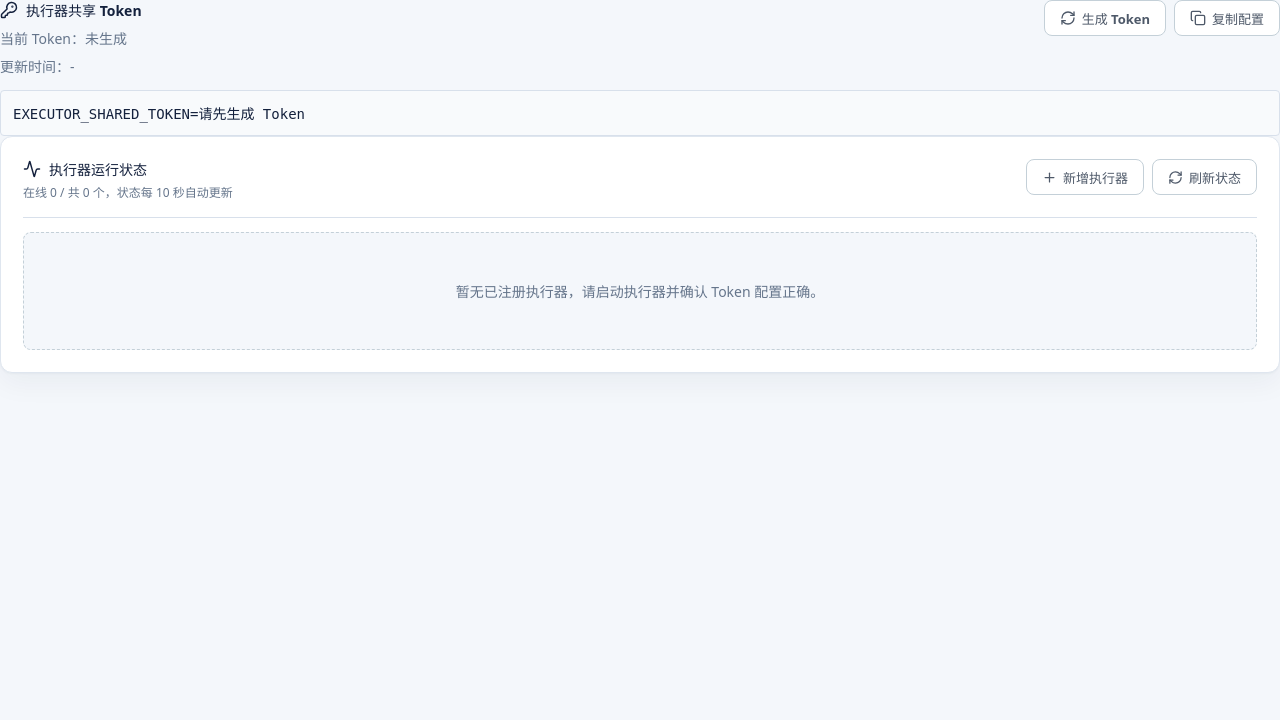
Test: 执行器配置页 › 新增执行器并生成专属 Token
Expected: the text "暂无已注册执行器，请启动执行器并确认 Token 配置正确。" is shown, [23,232,1257,350]
Click the button "新增执行器".
click(1085, 177)  # box [1026,159,1144,195]
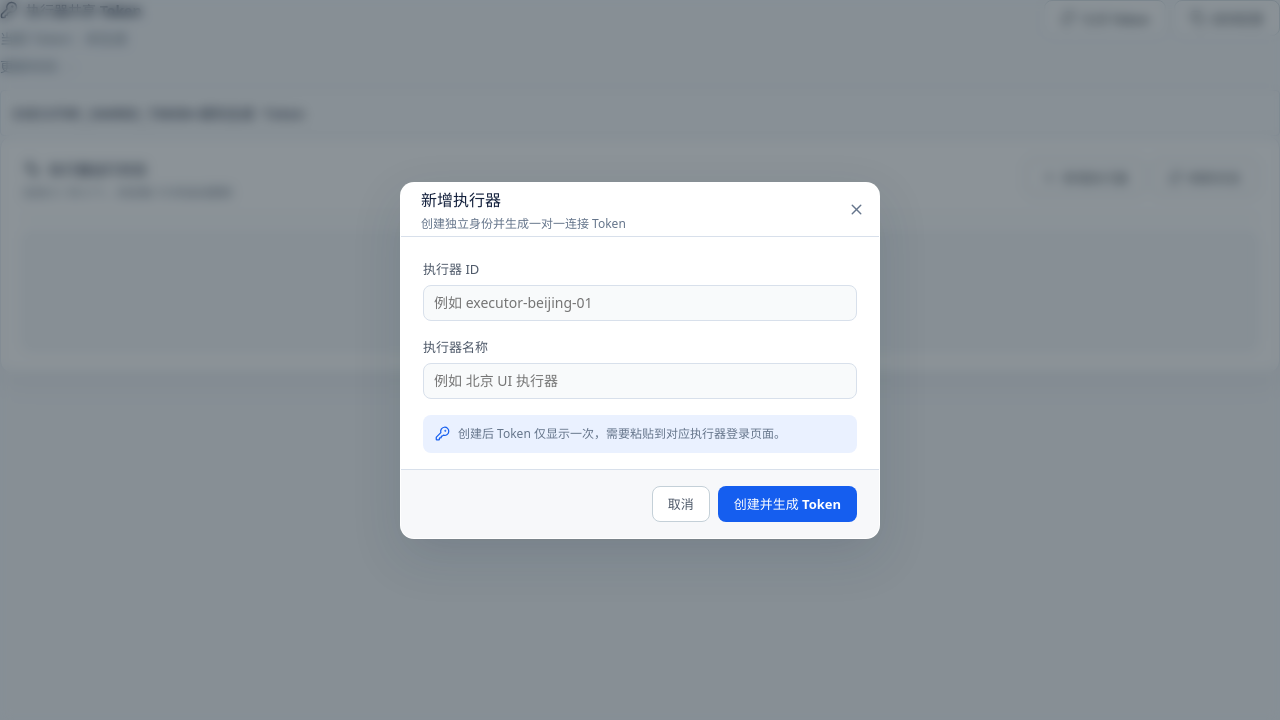
Type "executor-beijing-01" into the field with placeholder "例如 executor-beijing-01".
click(640, 302); type("executor-beijing-01")  # box [423,284,857,320]
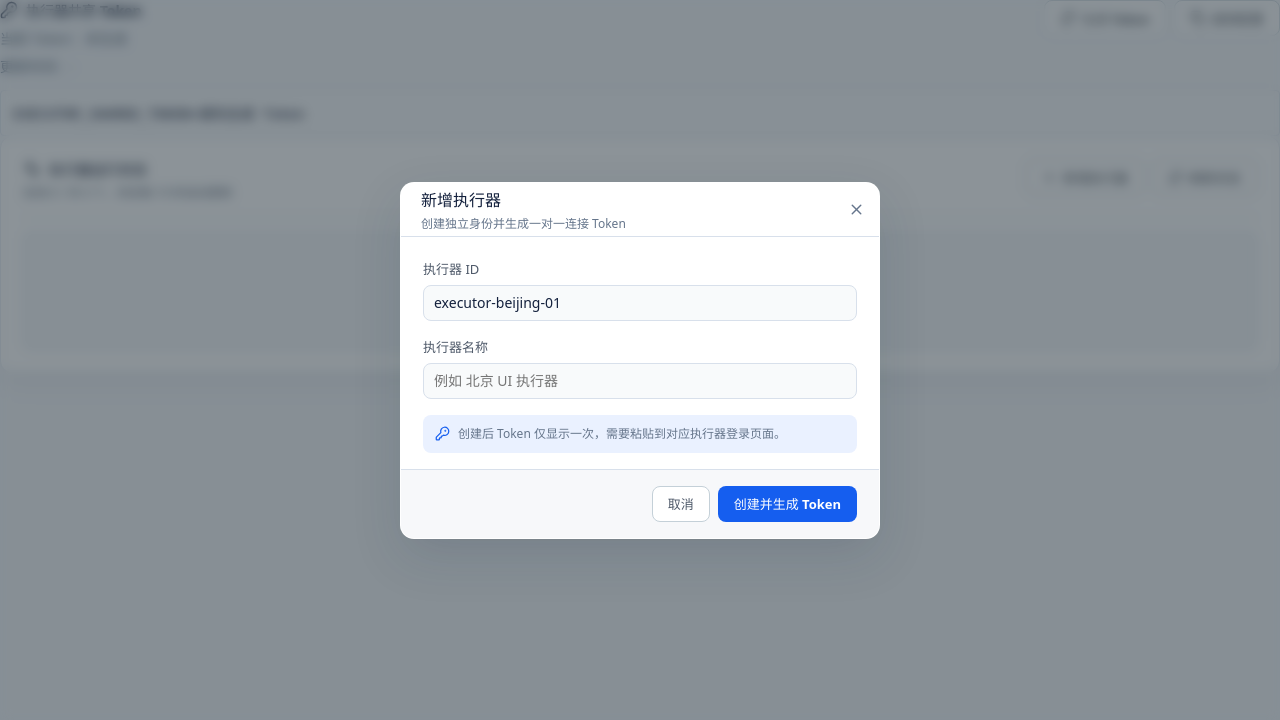
Type "北京 UI 执行器" into the field with placeholder "例如 北京 UI 执行器".
click(640, 380); type("北京 UI 执行器")  # box [423,362,857,398]
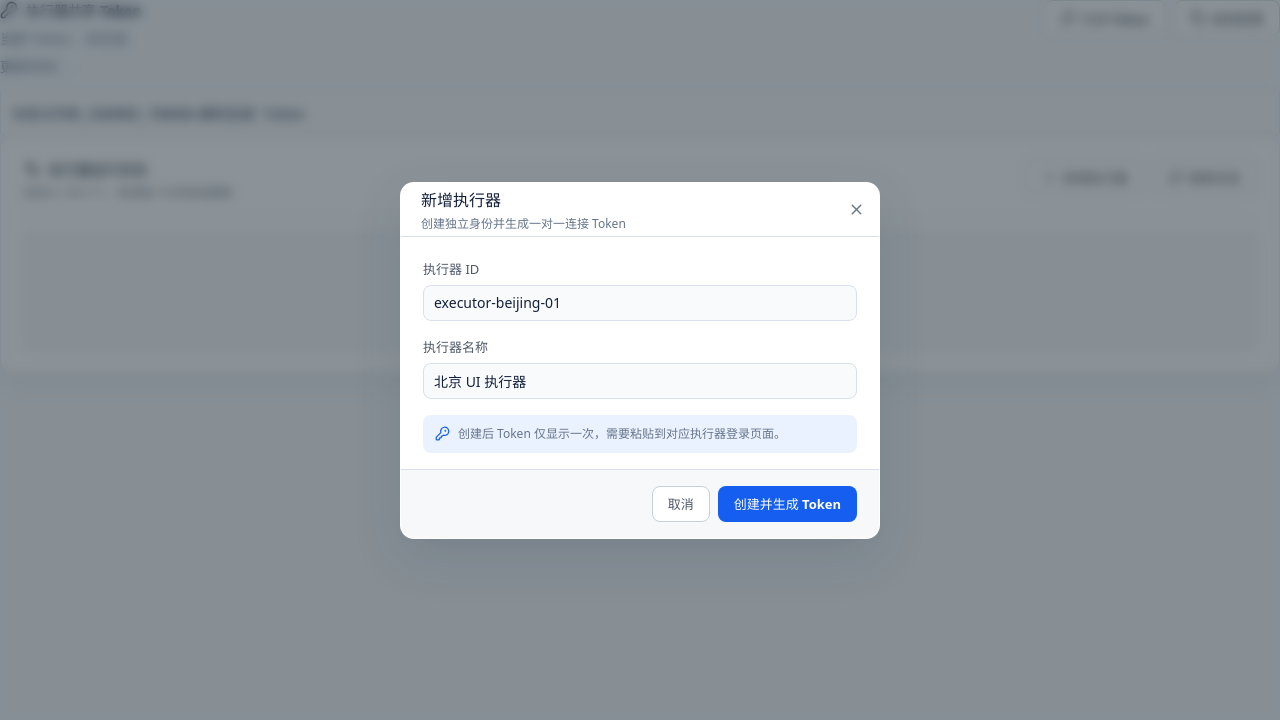
Click the button "创建并生成 Token".
click(787, 504)  # box [718,486,857,522]
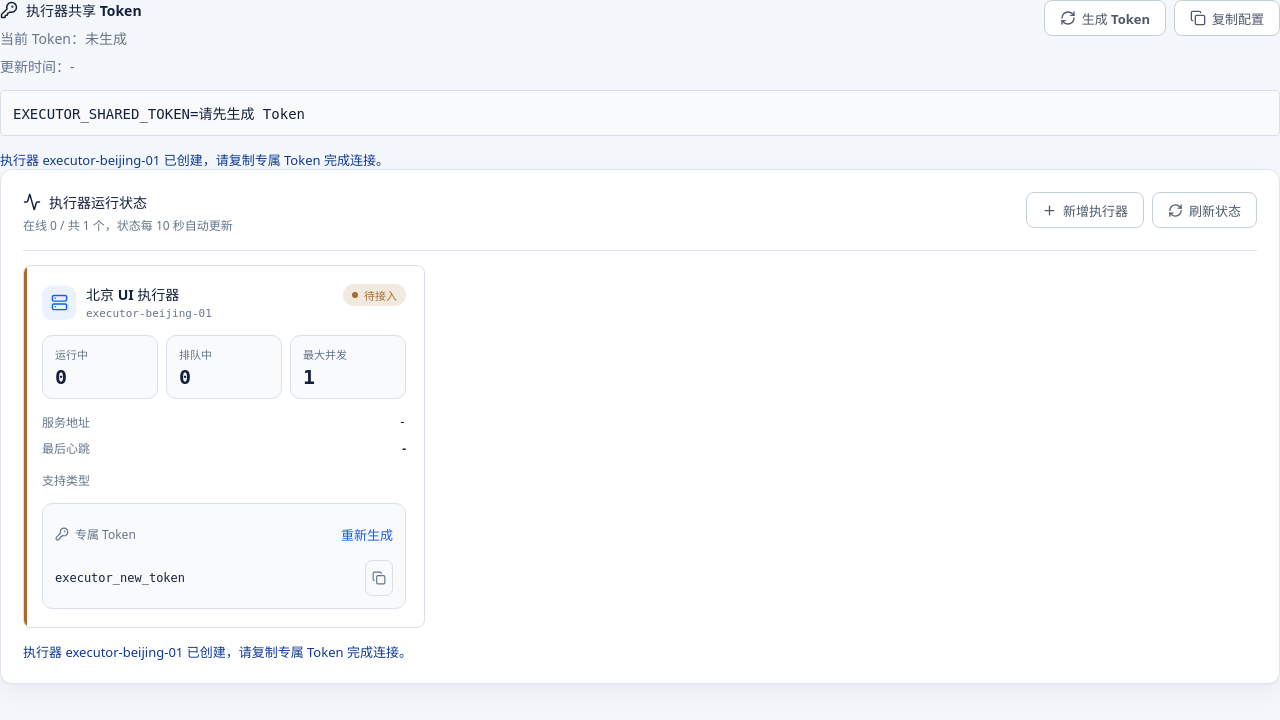
Result: the text "executor_new_token" is shown at [55,571,185,585]
